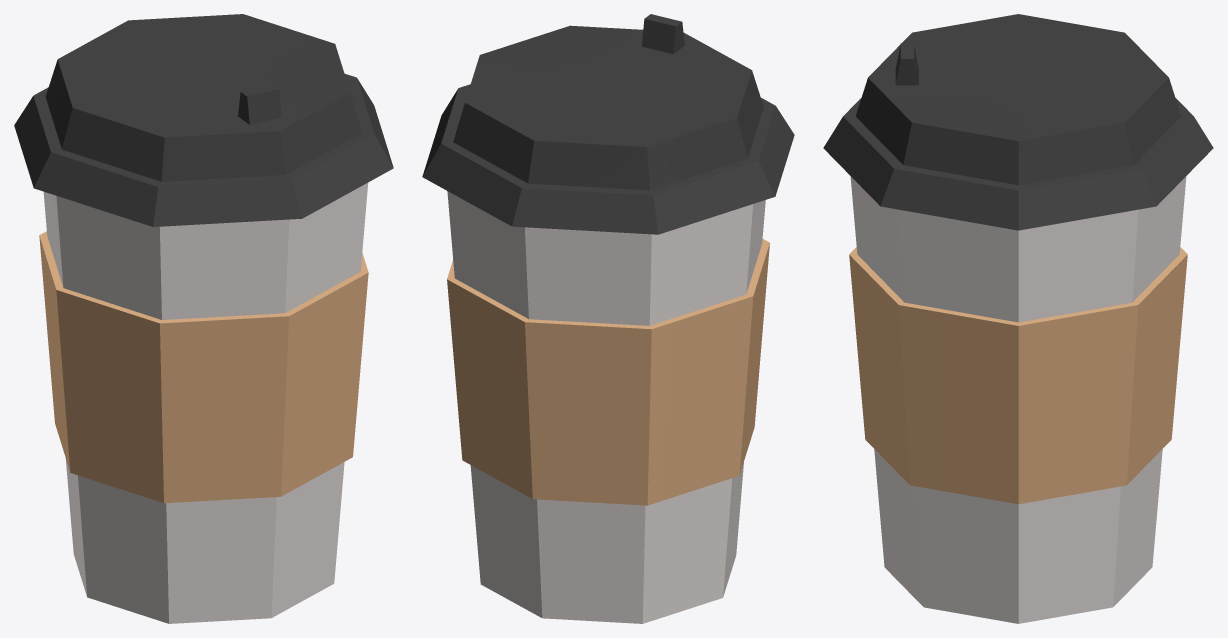
The model's file is coffee_001.glb.
The picture shows the model from 3 angles, left to right: view 1: azimuth 30°, elevation 25°; view 2: azimuth 150°, elevation 25°; view 3: azimuth 270°, elevation 25°; orthographic projection.
Parts seen in each view (by area): view 1: coffee_001; view 2: coffee_001; view 3: coffee_001.
Boxes of the visible parts, box(x1,y1,x2,y2) form: coffee_001: box(14, 14, 393, 623); coffee_001: box(422, 14, 794, 623); coffee_001: box(823, 14, 1213, 623).
Bounding box in the file's own units: 0.1104 × 0.1609 × 0.1104.
1 material, 1 textured.
